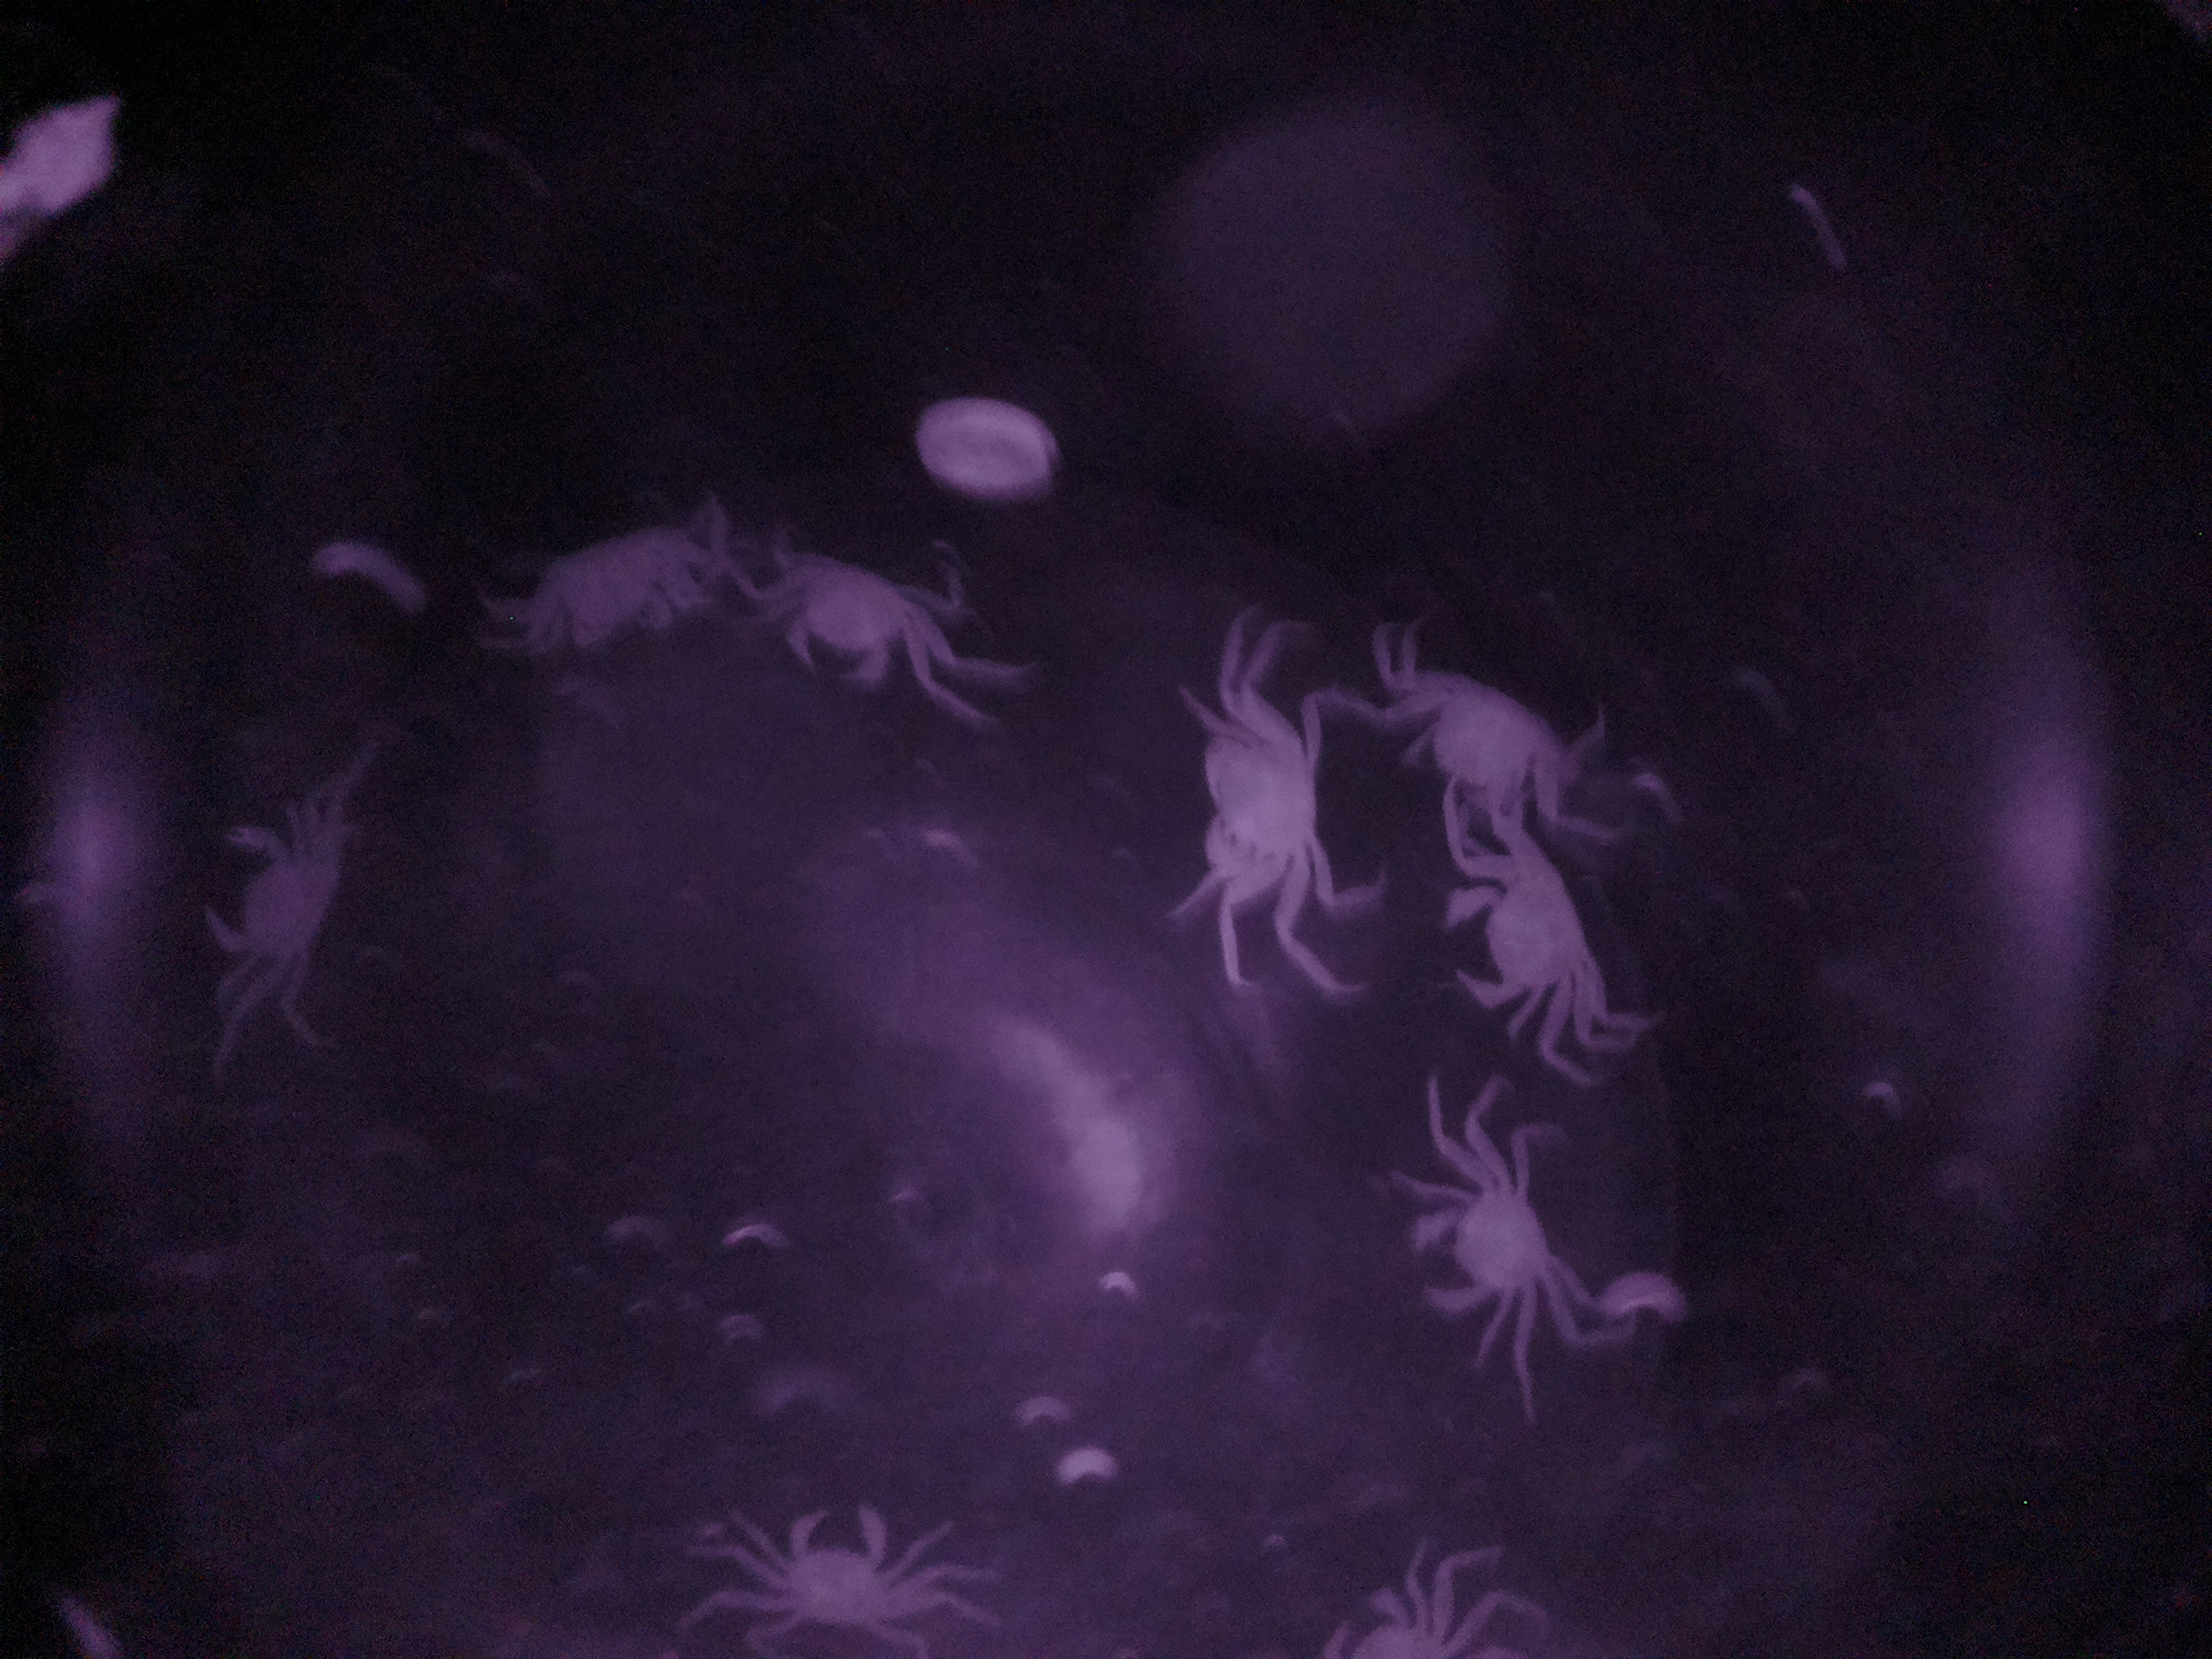Crab: (1430, 819, 1646, 1070), (1388, 1138, 1599, 1352), (1179, 660, 1341, 929), (754, 526, 986, 702), (719, 1476, 935, 1649)
